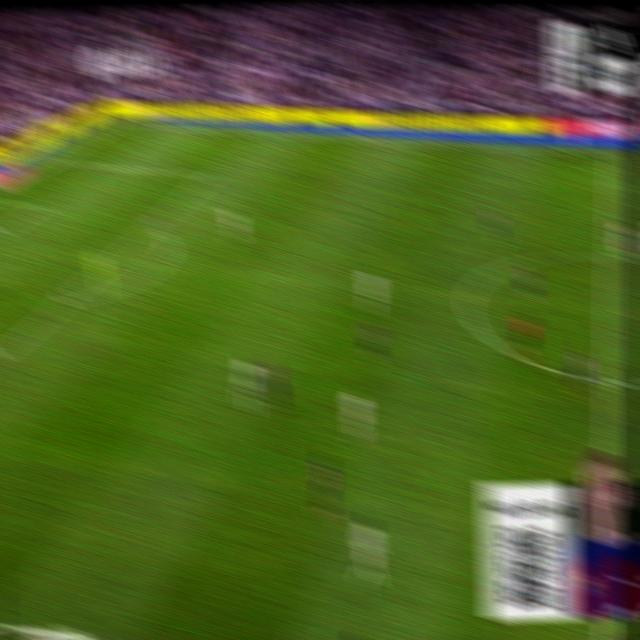bigarea_top_inner: (201, 165, 220, 184)
bottom_arc_area_intersection: (55, 288, 76, 311)
halfcircle_bottom: (595, 364, 619, 397)
halfcircle_top: (599, 241, 621, 269)
midline_top_intersection: (603, 145, 620, 161)
smallarea_top_inner: (32, 196, 50, 213)
top_arc_area_intersection: (145, 214, 163, 232)
